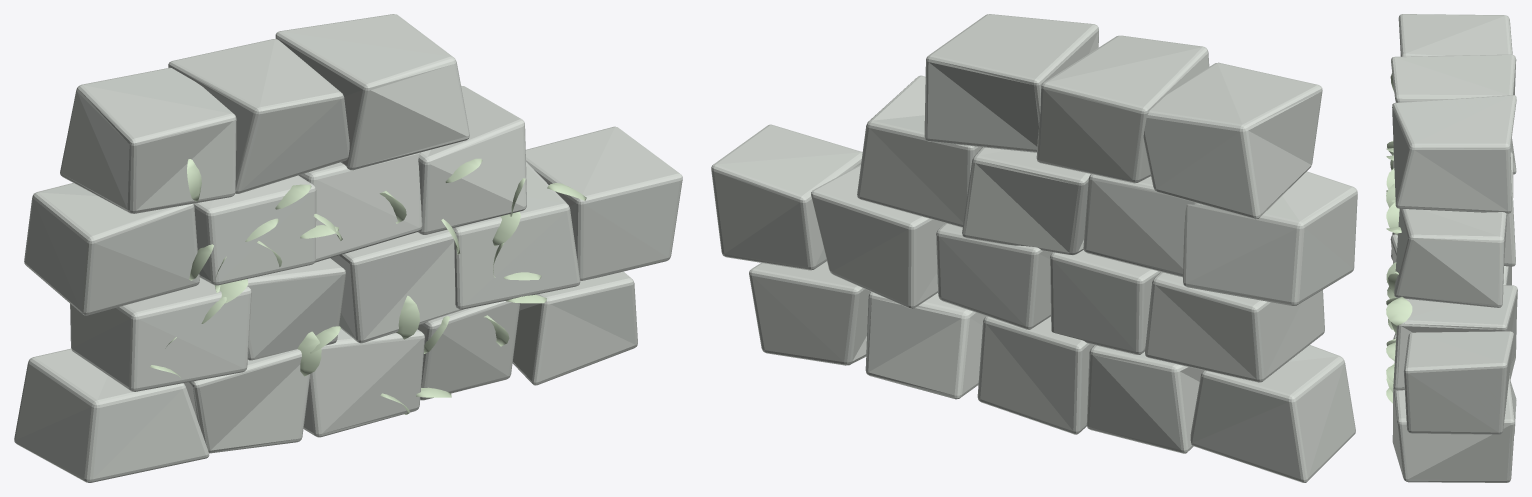
File: SM_WLA_WallRemnant_A.fbx
The picture shows the model from 3 angles, left to right: view 1: azimuth 30°, elevation 25°; view 2: azimuth 150°, elevation 25°; view 3: azimuth 270°, elevation 25°; orthographic projection. The views are drawn at different scales.
Visible parts, largest first — view 1: SM_WLA_WallRemnant_A; view 2: SM_WLA_WallRemnant_A; view 3: SM_WLA_WallRemnant_A.
Part boxes in pixels (left/top/right/bottom): SM_WLA_WallRemnant_A: left=14, top=14, right=682, bottom=482; SM_WLA_WallRemnant_A: left=711, top=14, right=1357, bottom=482; SM_WLA_WallRemnant_A: left=1386, top=14, right=1517, bottom=482.
Size of what is drawn, in the model's own units: 0.6403 by 2.74 by 1.52.
